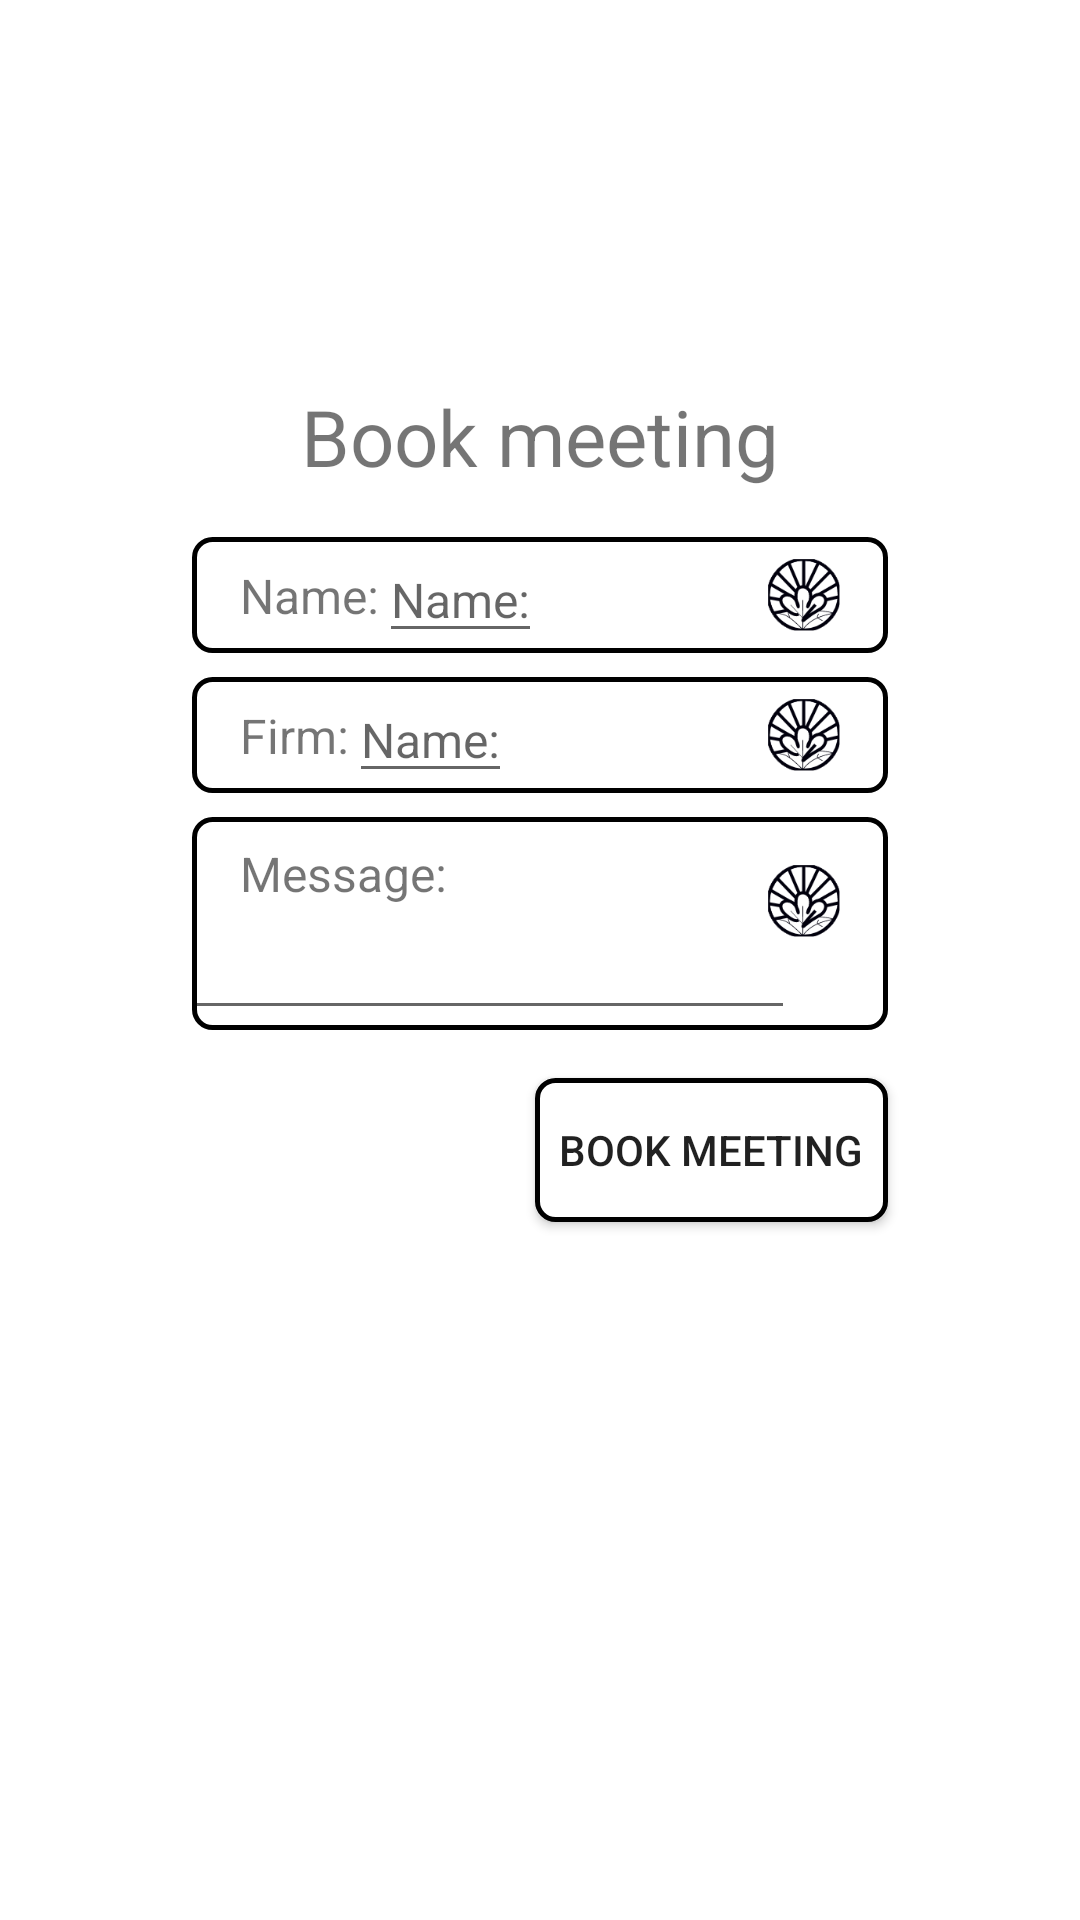

Locate icon controls on the screen. Image size 1080*1920, boxes as [x1=x1, y1=y1, x2=x2, y2=y2].
flower: [x1=768, y1=559, x2=840, y2=631], [x1=768, y1=699, x2=840, y2=771], [x1=768, y1=865, x2=840, y2=937]
